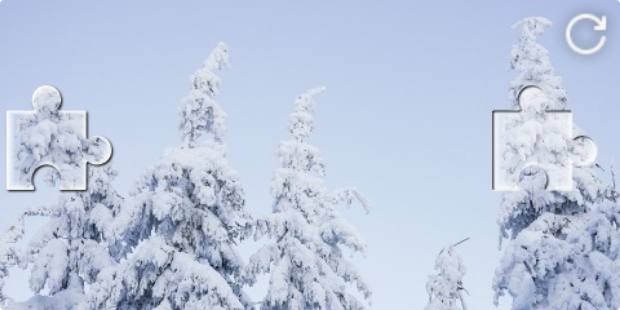target: (493, 85, 599, 191)
